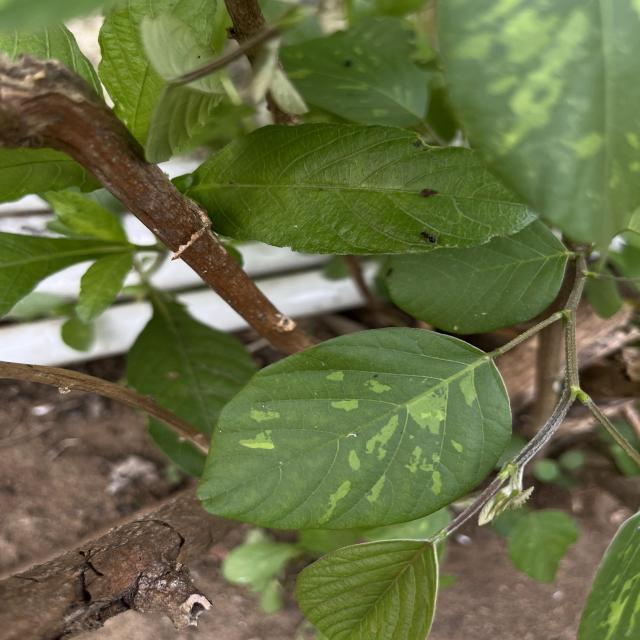Desmodium gangeticum: (194, 324, 516, 532)
